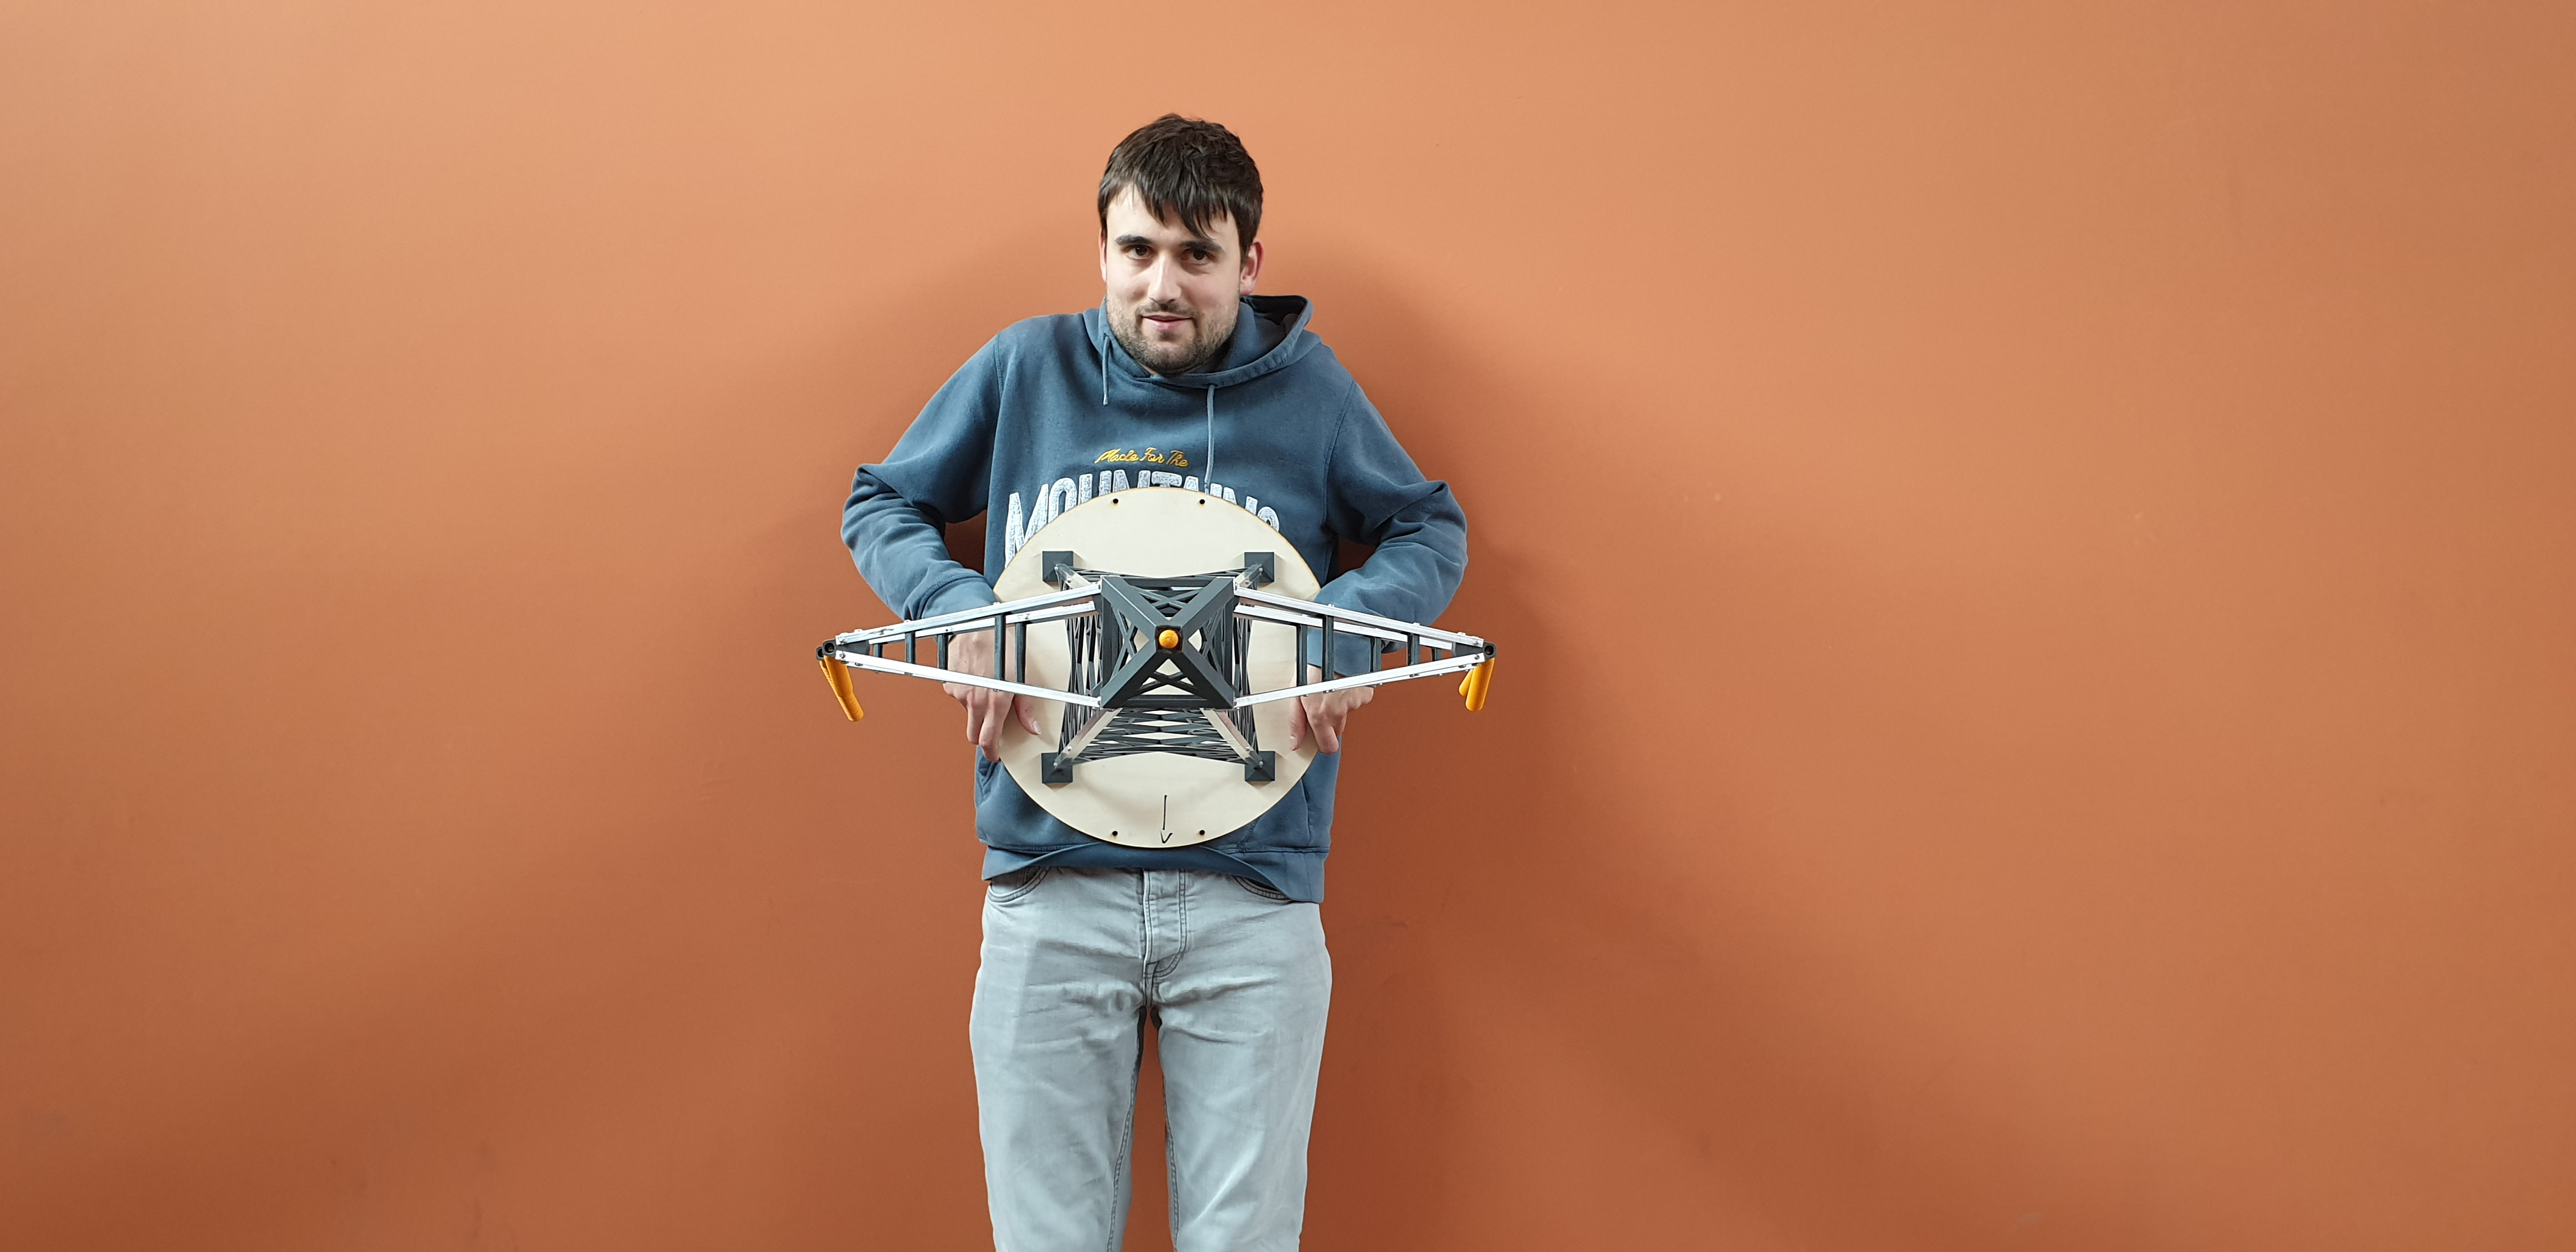pylon_phy: (821, 568, 1498, 718)
